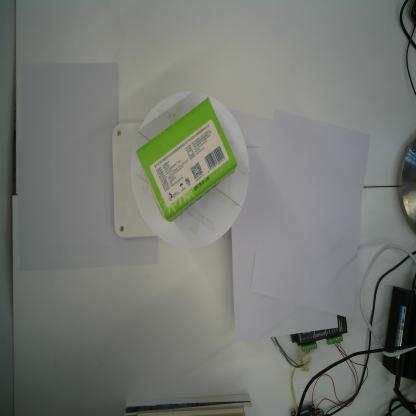Tissue: (135, 96, 237, 222)
